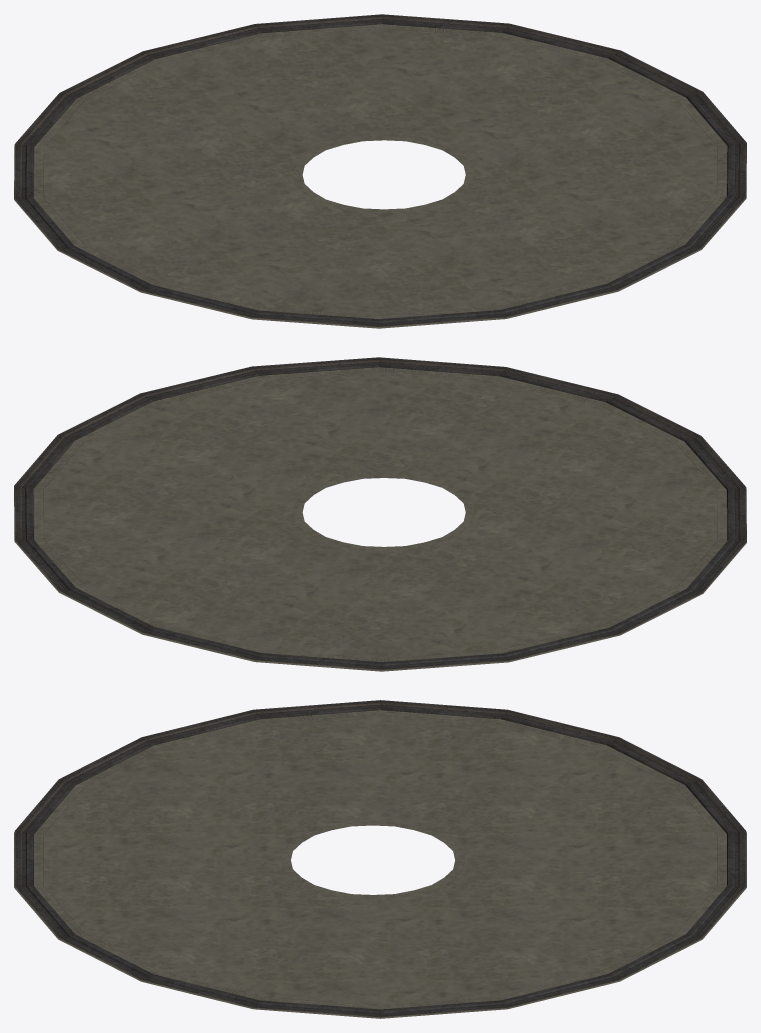
Rendered from lab_floor_ladder_exit_special.dae.
The picture shows the model from 3 angles, top to bottom: view 1: azimuth 30°, elevation 25°; view 2: azimuth 150°, elevation 25°; view 3: azimuth 270°, elevation 25°; orthographic projection.
Parts seen in each view (by area): view 1: plain, welder, ladder_entrance_special; view 2: plain, welder, ladder_entrance_special; view 3: plain, welder, ladder_entrance_special.
Boxes of the visible parts, box(x1,y1,x2,y2) form: plain: box(43, 28, 717, 315); welder: box(14, 14, 746, 326); ladder_entrance_special: box(14, 24, 746, 328); plain: box(43, 371, 717, 658); welder: box(14, 357, 746, 669); ladder_entrance_special: box(14, 367, 746, 671); plain: box(43, 714, 717, 1005); welder: box(14, 700, 746, 1017); ladder_entrance_special: box(14, 710, 746, 1018).
Bounding box in the file's own units: 11.52 × 0.0254 × 11.25.
